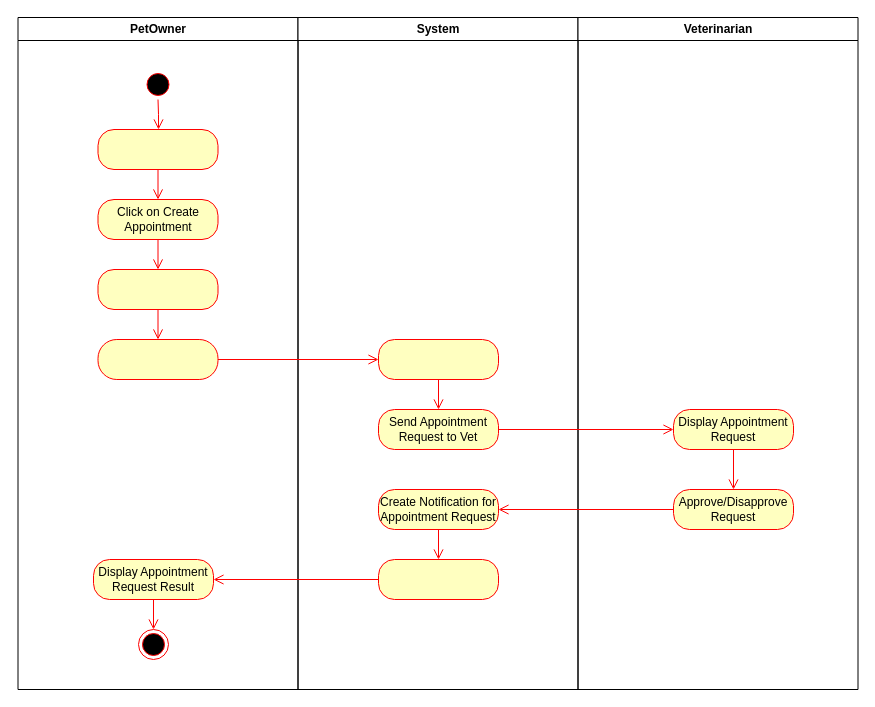
Image size: 875x707. Some labels were removed from this diagram. The shapes that lost their labels are listed below. From the top down, each one's centre as x and y in pixels, then its label:
pixel 157 149: Login to the System
pixel 157 289: Fill in Appointment Details
pixel 157 359: Click Send Appointment Request
pixel 438 359: Create Appointment
pixel 438 579: Send Notification to PetOwner
